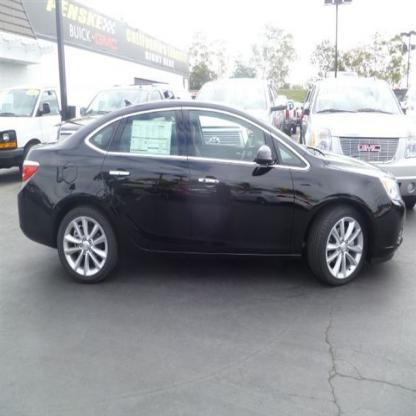Vehicle: (16, 100, 409, 288)
